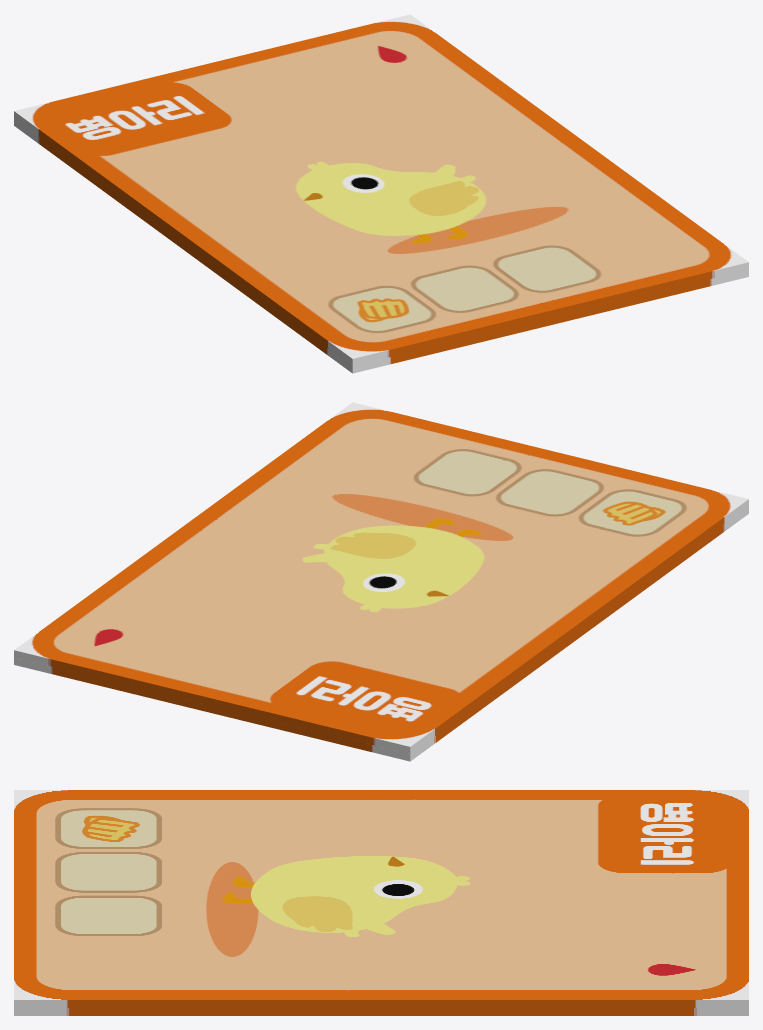
File: ChickCard.fbx
3 views of the same model, one above another, from view 1: azimuth 30°, elevation 25°; view 2: azimuth 150°, elevation 25°; view 3: azimuth 270°, elevation 25° (orthographic). The views are drawn at different scales.
Parts seen in each view (by area): view 1: pPlane1, pPlane2; view 2: pPlane1, pPlane2; view 3: pPlane1, pPlane2.
Part boxes in pixels (x1=…): pPlane1: x1=14, y1=14, x2=748, y2=366; pPlane2: x1=14, y1=118, x2=748, y2=373; pPlane1: x1=14, y1=402, x2=748, y2=754; pPlane2: x1=14, y1=506, x2=748, y2=761; pPlane1: x1=14, y1=790, x2=748, y2=1007; pPlane2: x1=14, y1=1008, x2=748, y2=1015.
Size of the model in its own units: 4.06 by 0.1436 by 6.
